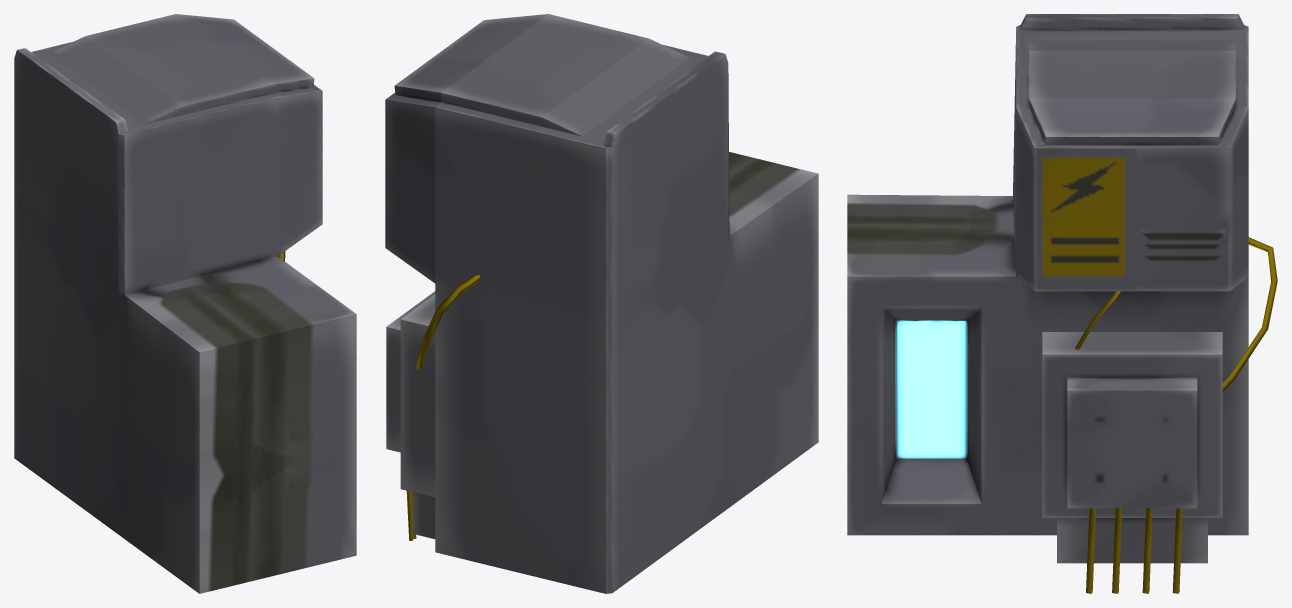
Rendered from EnergyBox.fbx.
The picture shows the model from 3 angles, left to right: view 1: azimuth 30°, elevation 25°; view 2: azimuth 150°, elevation 25°; view 3: azimuth 270°, elevation 25°; orthographic projection. The views are drawn at different scales.
Visible parts, largest first — view 1: EnergyBox; view 2: EnergyBox; view 3: EnergyBox.
Boxes of the visible parts, left/top/right/bottom form: EnergyBox: left=14, top=14, right=356, bottom=593; EnergyBox: left=385, top=14, right=818, bottom=593; EnergyBox: left=847, top=14, right=1277, bottom=593.
Bounding box in the file's own units: 195 × 362 × 301.
